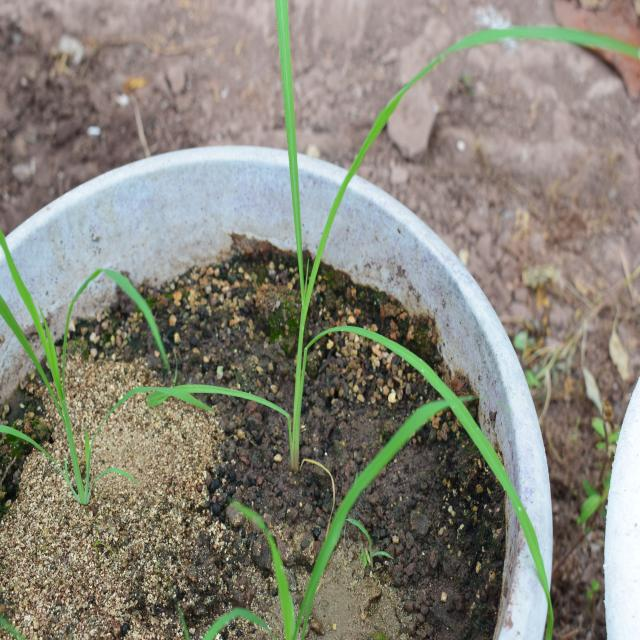barnyard_grass: (219, 10, 540, 548)
